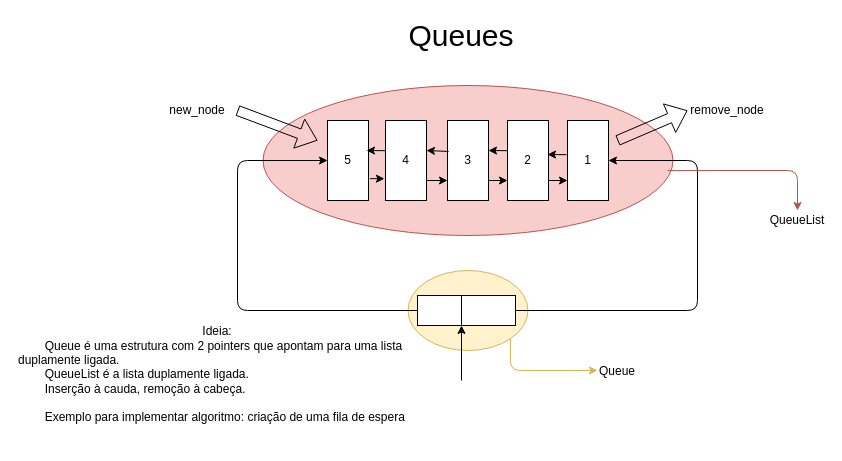
This 842x461 diagram has some shape labels left out. The box of each missing label's shape, as (x1, y1, x2, y2) in pixels:
first: (460, 294, 516, 326)
last: (416, 294, 462, 326)
